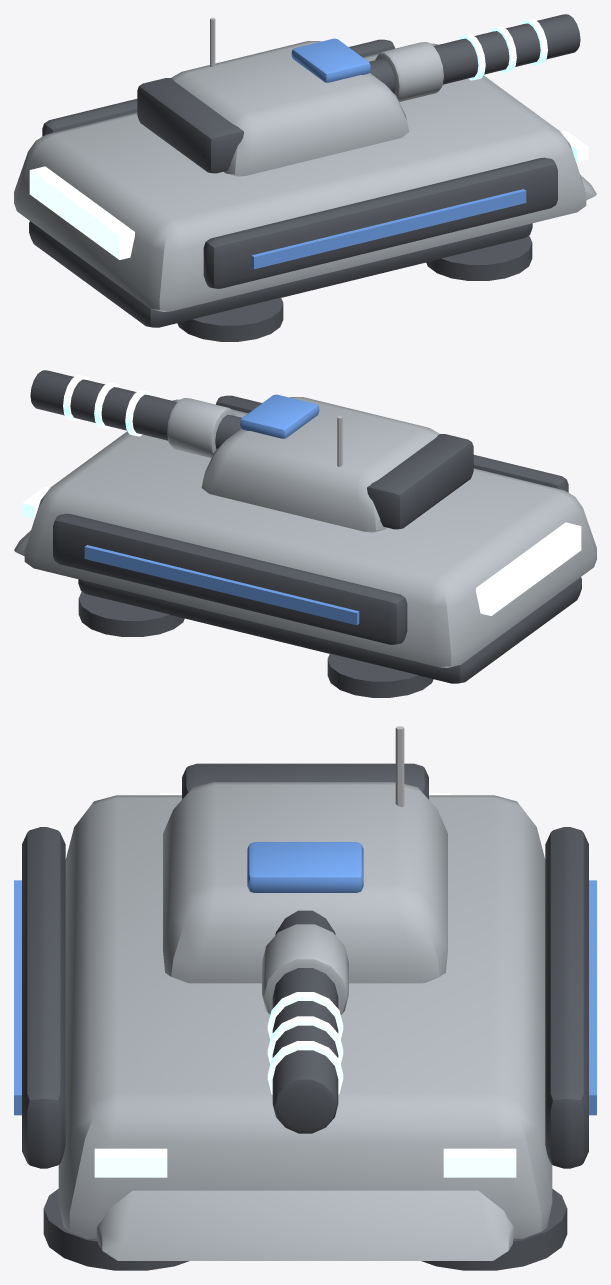
File: hum_tank.glb
3 renders of one model, top to bottom at view 1: azimuth 30°, elevation 25°; view 2: azimuth 150°, elevation 25°; view 3: azimuth 270°, elevation 25°, orthographic. The views are drawn at different scales.
Visible parts, largest first — view 1: hum_tank, turret_m; view 2: hum_tank, turret_m; view 3: hum_tank, turret_m.
Part boxes in pixels (<box>): hum_tank: <box>14,39,596,341</box>; turret_m: <box>137,14,580,176</box>; hum_tank: <box>14,395,596,697</box>; turret_m: <box>30,370,473,532</box>; hum_tank: <box>14,793,596,1270</box>; turret_m: <box>163,726,447,1133</box>.
Size of the model in its own units: 1.28 by 0.556 by 0.802.
